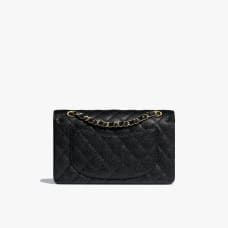channel: (46, 100, 194, 187), (68, 110, 164, 135)
